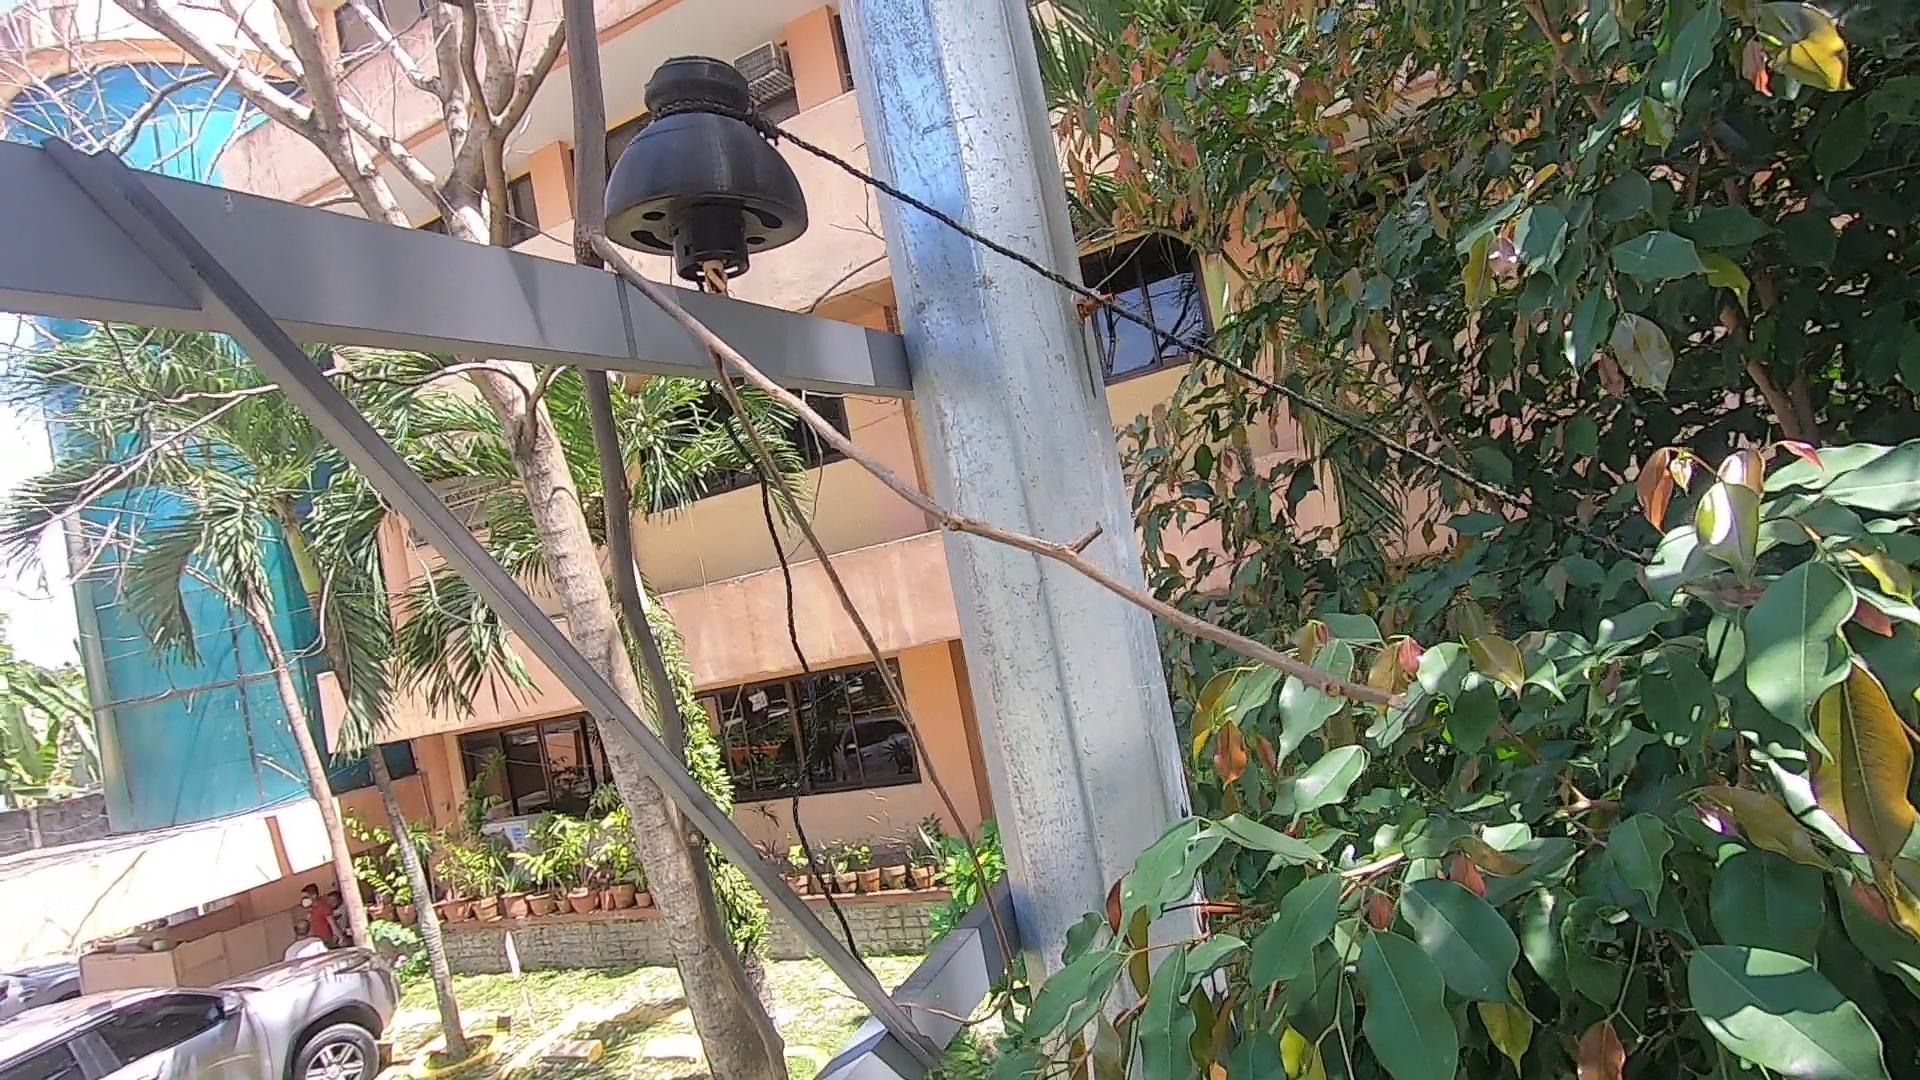tree branch: (485, 5, 1414, 1080)
